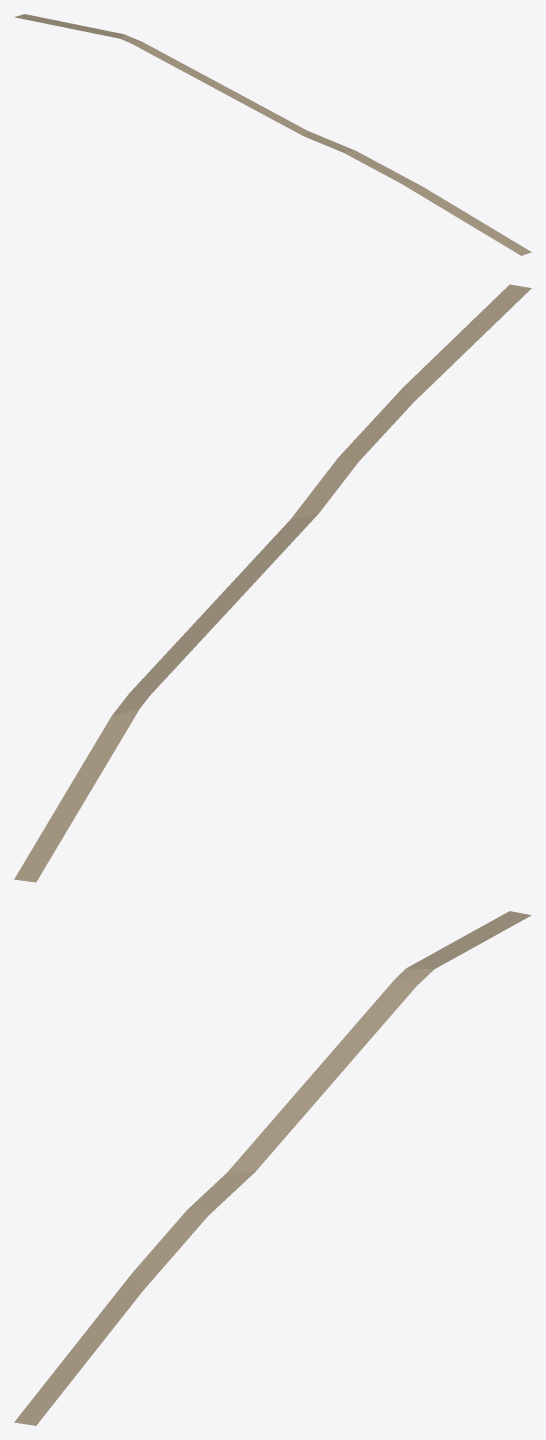
File: farm_-58_-48_track.glb
3 views of the same model, one above another, from view 1: azimuth 30°, elevation 25°; view 2: azimuth 150°, elevation 25°; view 3: azimuth 330°, elevation 25° (orthographic). The views are drawn at different scales.
Visible parts, largest first — view 1: geometry_0; view 2: geometry_0; view 3: geometry_0.
Part boxes in pixels (left/top/right/bottom): geometry_0: left=14, top=14, right=531, bottom=255; geometry_0: left=14, top=284, right=531, bottom=882; geometry_0: left=14, top=911, right=531, bottom=1425.
Size of the model in its own units: 34.23 by 9.37 by 191.
